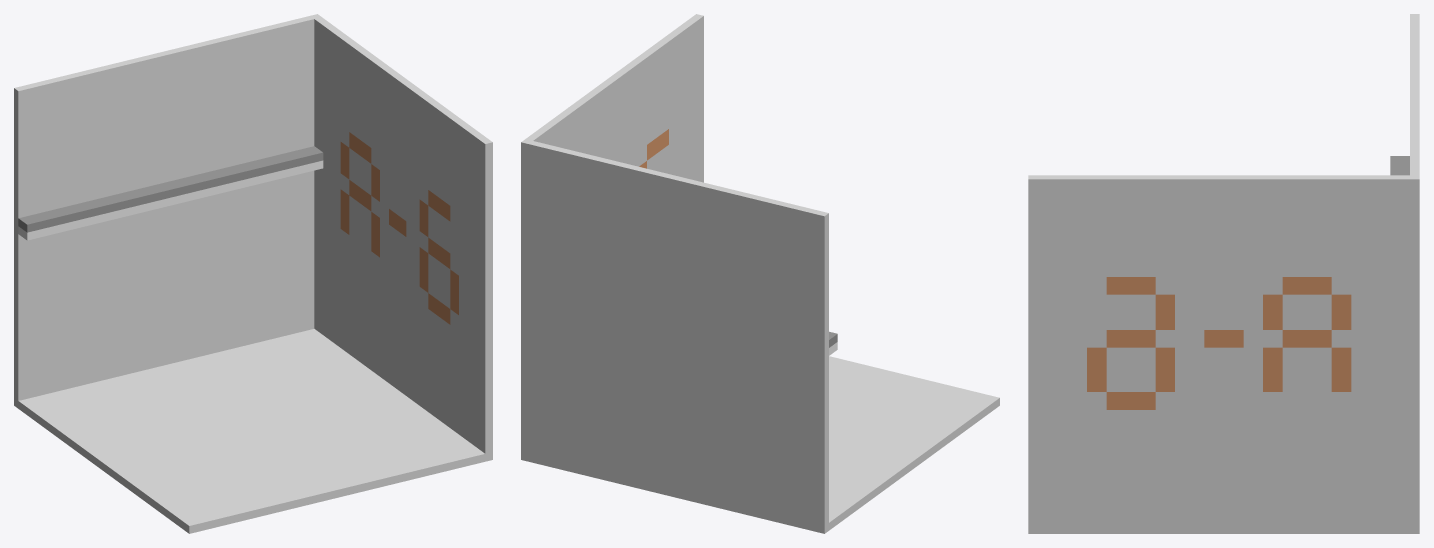
Rendered from Wall_Corner(Ver_1_Number 6).obj.
3 renders of one model, left to right at view 1: azimuth 30°, elevation 25°; view 2: azimuth 150°, elevation 25°; view 3: azimuth 270°, elevation 25°, orthographic. The views are drawn at different scales.
Size of the model in its own units: 4 by 4 by 4.
Materials: 1 (1 with a texture image).
